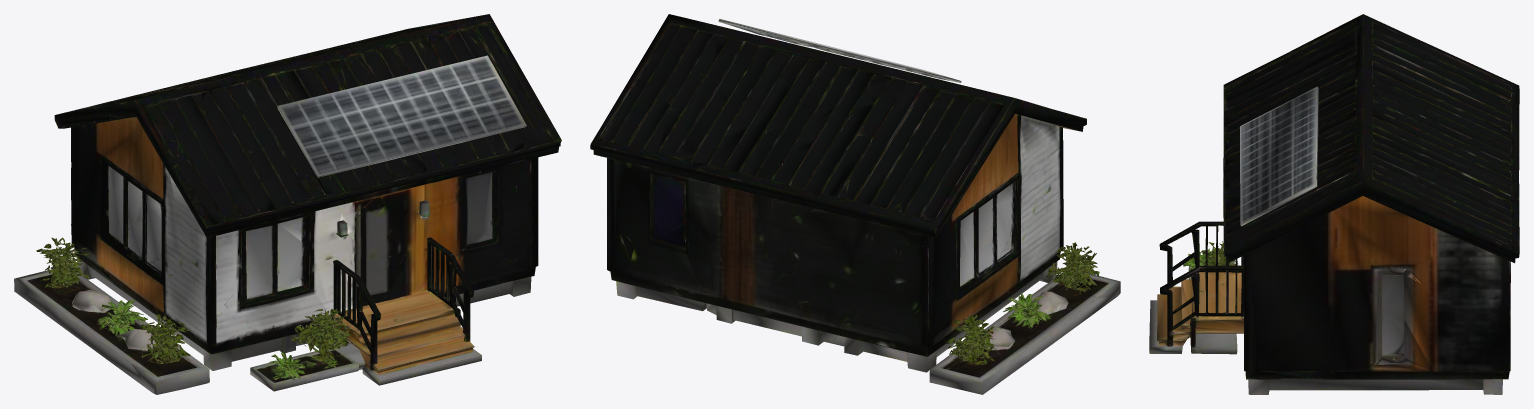
The model's file is finished-standard.glb.
The picture shows the model from 3 angles, left to right: view 1: azimuth 30°, elevation 25°; view 2: azimuth 150°, elevation 25°; view 3: azimuth 270°, elevation 25°; orthographic projection. The views are drawn at different scales.
Parts seen in each view (by area): view 1: world; view 2: world; view 3: world.
Part boxes in pixels (x1,y1,x2,y2): world: (14, 14, 561, 394); world: (590, 14, 1120, 394); world: (1149, 14, 1519, 394).
Bounding box in the file's own units: 1 × 0.5703 × 0.8351.
1 material, 1 textured.
